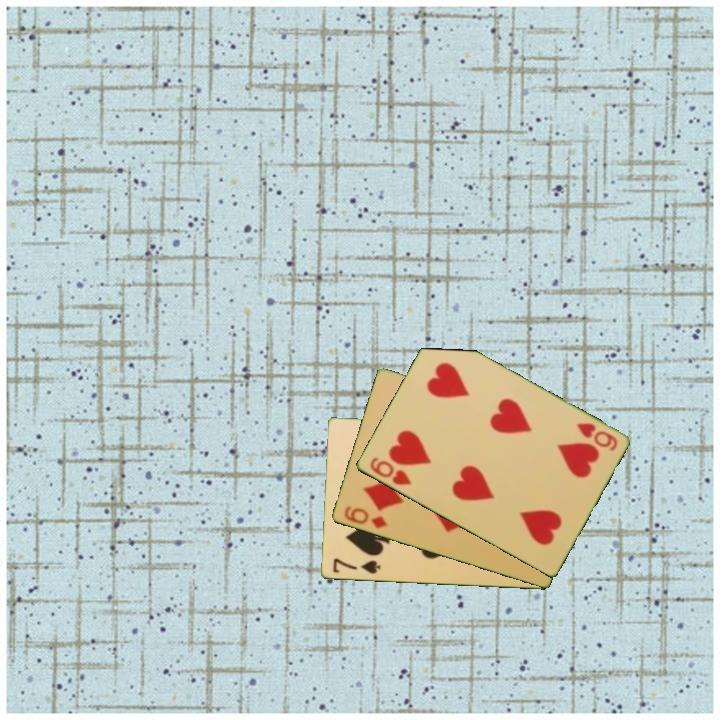6d: (340, 503, 390, 532)
6h: (572, 419, 620, 454), (366, 454, 414, 488)
7s: (329, 555, 383, 577)
